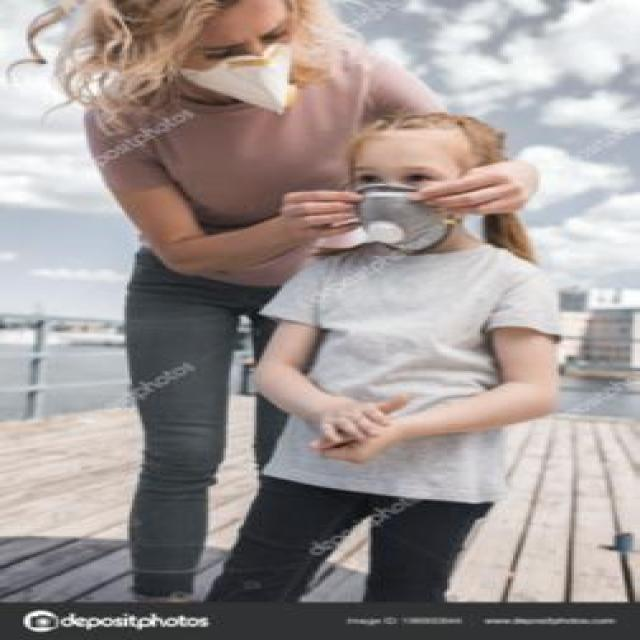with_mask: (181, 14, 296, 119), (349, 160, 461, 253)
